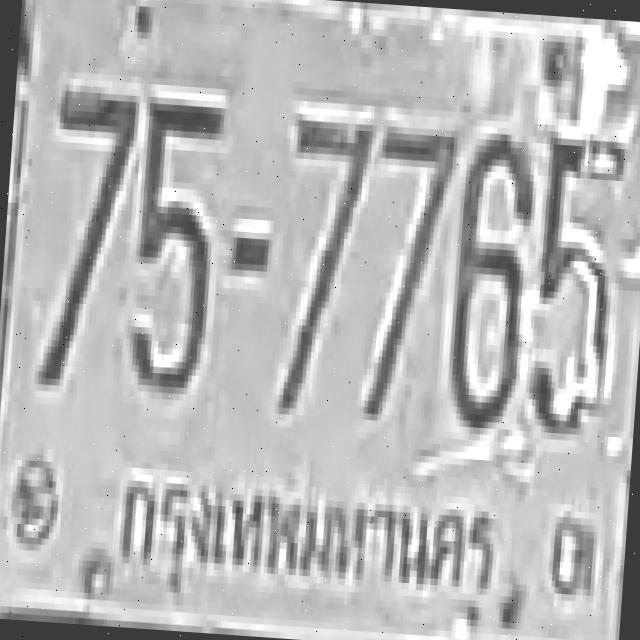5: (522, 127, 626, 433), (123, 86, 222, 392)
6: (440, 124, 534, 430)
7: (38, 80, 137, 386), (273, 106, 372, 412), (360, 119, 455, 418)
Bangkok: (106, 448, 520, 634)
